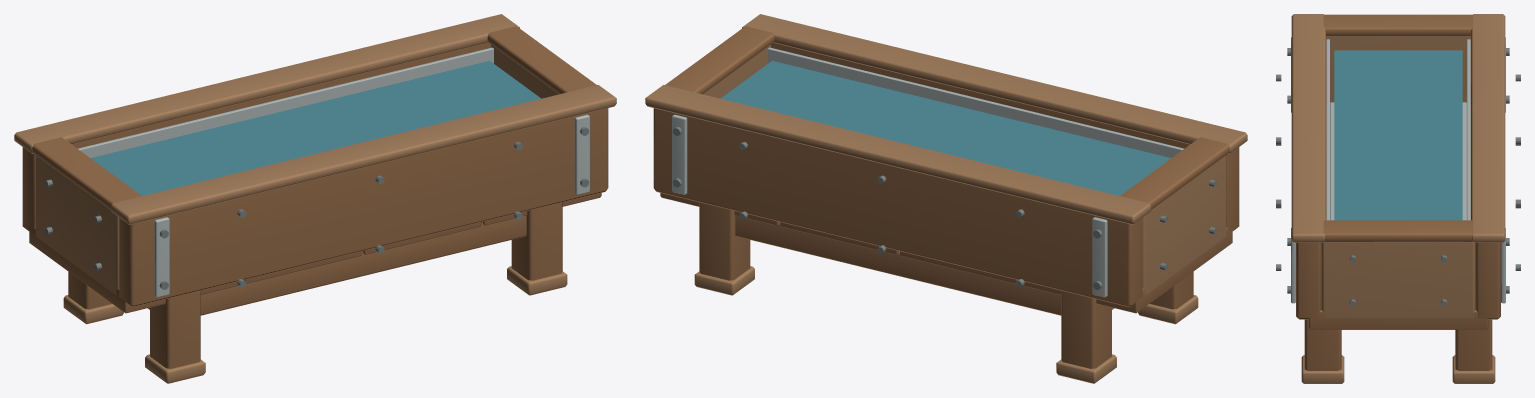
3 views of the same model, side by side, from view 1: azimuth 30°, elevation 25°; view 2: azimuth 150°, elevation 25°; view 3: azimuth 270°, elevation 25° (orthographic). The views are drawn at different scales.
Parts seen in each view (by area): view 1: Long basin wall, Animated water level, Long rim cap, Long rim cap.001, Long support rail, End basin wall, Liner long inner wall.001, Long basin wall.001, Square support leg, Square support leg.002, End rim cap, End rim cap.001 (+10 smaller); view 2: Long basin wall.001, Animated water level, Long rim cap.001, Long rim cap, Long support rail.001, End basin wall, Liner long inner wall, Long basin wall, Square support leg.001, Square support leg.003, End rim cap, End rim cap.001 (+10 smaller); view 3: Animated water level, End basin wall.001, Long rim cap, Long rim cap.001, End rim cap.001, End rim cap, End basin wall, Bottom timber plank.003, Long basin wall, Long basin wall.001, Square support leg.002, Square support leg.003 (+7 smaller).
Part boxes in pixels (x1,y1,x2,y2): Long basin wall: (119,108,608,306); Animated water level: (91,60,540,195); Long rim cap: (111,85,616,224); Long rim cap.001: (14,14,519,153); Long support rail: (200,215,526,315); End basin wall: (36,155,119,295); Liner long inner wall.001: (78,47,493,157); Long basin wall.001: (22,43,490,234); Square support leg: (150,290,200,368); Square support leg.002: (511,202,562,280); End rim cap: (32,137,141,209); End rim cap.001: (487,26,596,94); Long basin wall.001: (653,108,1142,306); Animated water level: (721,60,1170,195); Long rim cap.001: (645,85,1150,224); Long rim cap: (742,14,1247,153); Long support rail.001: (735,215,1061,315); End basin wall: (1142,155,1225,295); Liner long inner wall: (768,47,1183,157); Long basin wall: (771,43,1239,234); Square support leg.001: (1061,290,1111,368); Square support leg.003: (699,202,750,280); End rim cap: (1120,137,1229,209); End rim cap.001: (665,26,774,94); Animated water level: (1334,50,1462,220); End basin wall.001: (1321,242,1475,318); Long rim cap: (1291,14,1325,242); Long rim cap.001: (1471,14,1505,242); End rim cap.001: (1323,220,1473,242); End rim cap: (1323,14,1473,36); End basin wall: (1326,36,1470,105); Bottom timber plank.003: (1308,310,1488,329); Long basin wall: (1296,242,1321,319); Long basin wall.001: (1475,242,1500,319); Square support leg.002: (1304,319,1341,370); Square support leg.003: (1455,319,1492,370).
Bounding box in the file's own units: 1.84 × 0.66 × 0.86.
